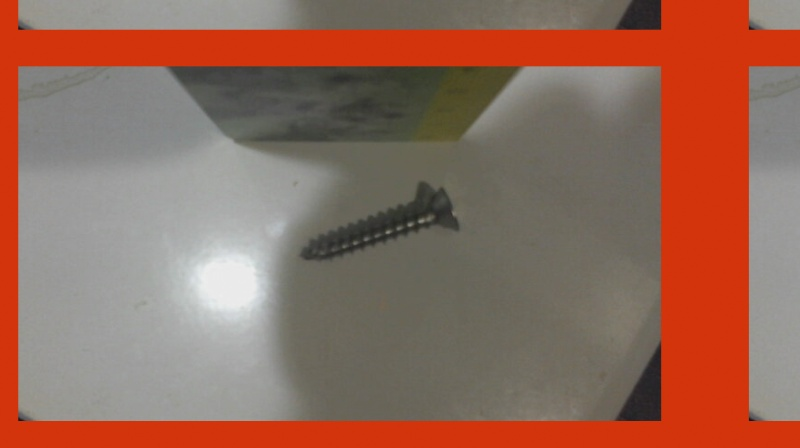S001: (297, 182, 463, 262)
